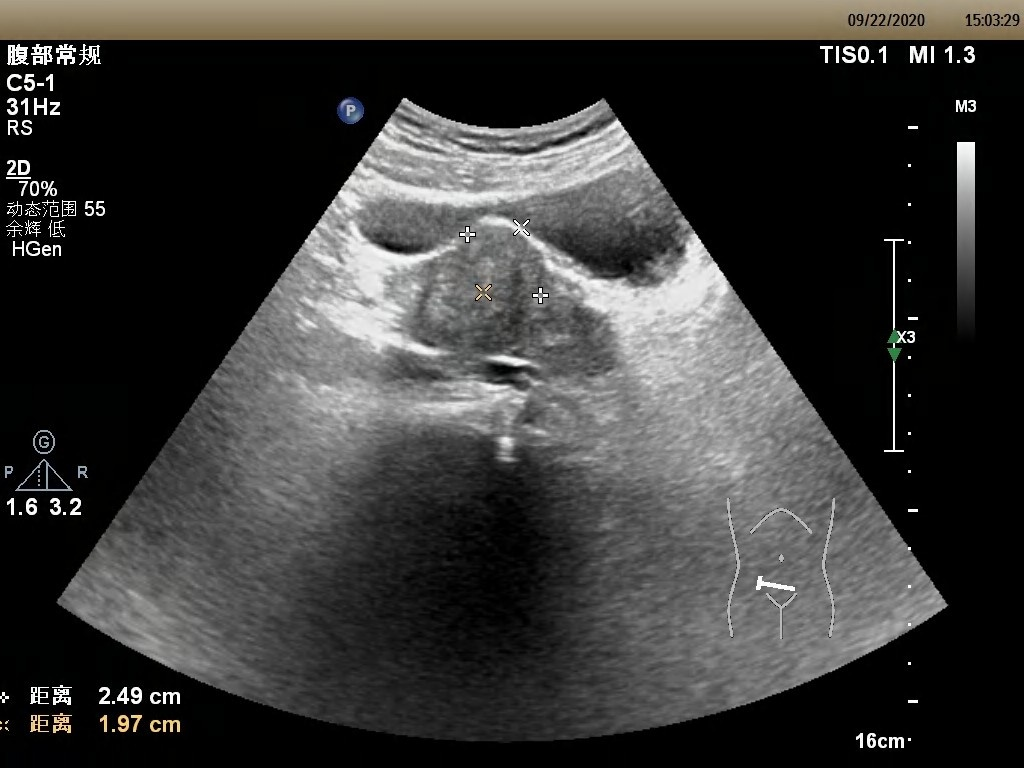肌瘤: (464, 225, 546, 305)
